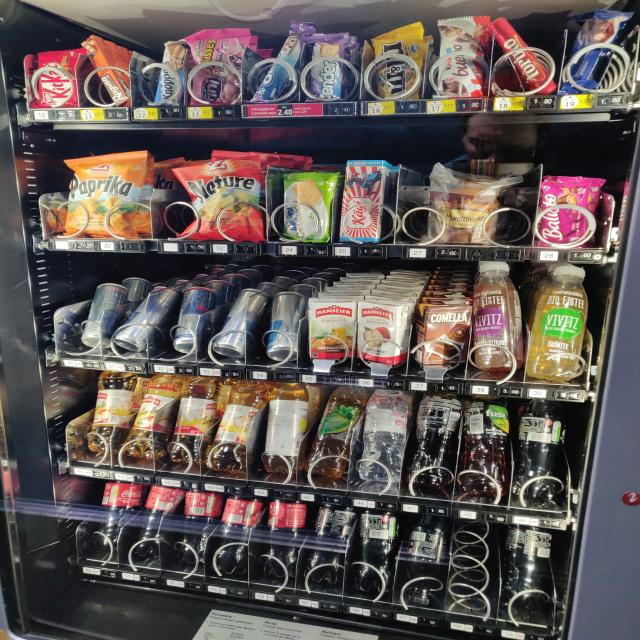balisto_yoberry__37g__: (530, 176, 590, 247)
bueno___43__4008400320328: (430, 15, 492, 101)
coke__flasche_50__54491472: (87, 480, 141, 550), (210, 498, 259, 575), (258, 500, 306, 576), (132, 489, 180, 560), (174, 496, 218, 562)
coke_zero_flasche_50__5449000131836: (506, 402, 570, 504), (394, 512, 453, 602), (348, 514, 400, 594), (301, 510, 351, 583), (502, 528, 551, 602)
comella_schokodrink__33__7613100037253: (410, 304, 474, 364)
darwida_sandwich____7610032065170: (276, 171, 338, 241)
evian___50__3068320353500: (351, 390, 410, 484)
fini_jellykisses_packung_80_1_8410525116704: (189, 26, 249, 106)
fuse_blackicetea__50__: (404, 394, 464, 487), (455, 403, 511, 495)
kagi_specialedition__50__7610046000259: (338, 159, 386, 244)
kitkat_____: (31, 49, 78, 109)
knoppers_riegel____4035800488808: (145, 41, 189, 108)
lindt_nocciolate____: (565, 11, 632, 93)
milka_oreo_riegel_37_1_7622210704740: (251, 23, 304, 103)
milka_tender____: (304, 31, 354, 104)
mnms_gelb__45__40111445: (368, 22, 427, 99)
momo_icetea__50__: (255, 384, 310, 474)
panettone_____: (425, 168, 526, 244)
ragusa___50__76401121: (78, 37, 130, 107)
ramseier_jusdepomme_tetrapak_33__7610057001078: (356, 301, 402, 360)
ramseier_orange_tetrapak_33__: (306, 300, 358, 359)
ramseier_schorle__50__7610057012456: (207, 381, 266, 474), (120, 376, 184, 461), (164, 378, 219, 466), (80, 372, 137, 454)
redbull___33__90162909: (117, 287, 174, 348), (166, 289, 216, 353), (216, 296, 263, 355), (78, 282, 118, 349)
redbull_light__33__90162800: (264, 291, 303, 360)
torino___46__76415272: (497, 18, 567, 93)
vivitz_classiczitrone__50__: (464, 258, 527, 373)
vivitz_gruentee__50__: (528, 262, 594, 378)
volvic_teeminze__50__3057640335648: (305, 385, 364, 477)
zweifel_paprika__90__7610095013002: (59, 152, 148, 240)
zweifel_salz__90__7610095005007: (173, 155, 262, 240)
